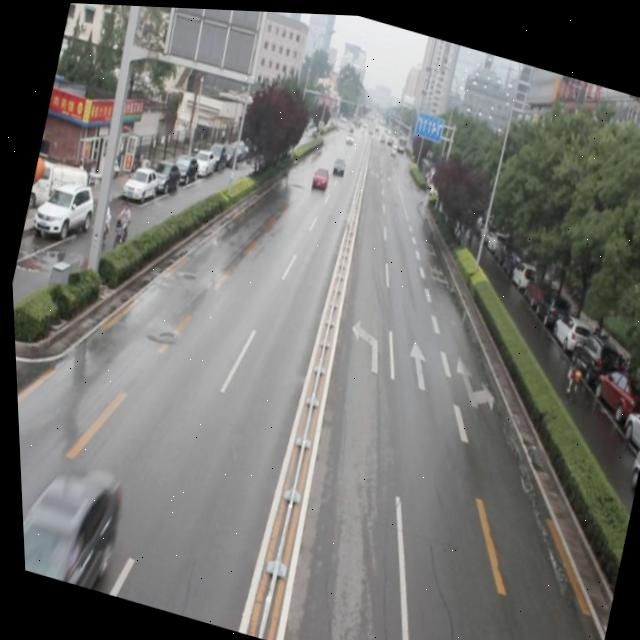car: (16, 449, 125, 593), (307, 160, 330, 188), (328, 150, 346, 172)
